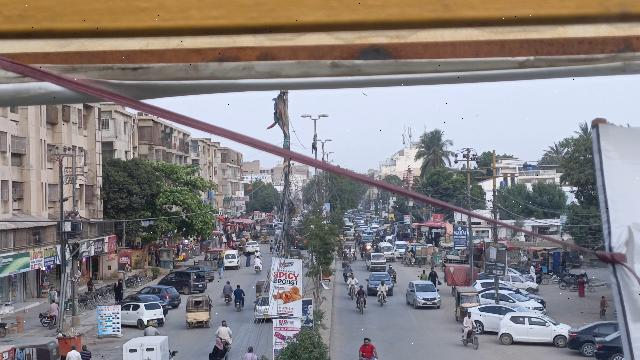Bike: (460, 327, 480, 352), (356, 294, 367, 315), (234, 297, 244, 314), (377, 291, 387, 307), (223, 292, 232, 306)
Car: (496, 310, 570, 346), (568, 320, 621, 357), (120, 299, 167, 330), (157, 268, 208, 295), (469, 304, 515, 333), (405, 279, 442, 310), (141, 285, 182, 308), (365, 270, 394, 296), (253, 296, 271, 324)
Person: (217, 321, 234, 339), (77, 341, 93, 360), (66, 343, 82, 360), (360, 336, 374, 355), (428, 265, 439, 286), (463, 310, 475, 328), (233, 284, 246, 299), (356, 285, 368, 300), (377, 278, 388, 294), (222, 279, 233, 293), (419, 268, 428, 282)
Rickshaw: (183, 294, 213, 330), (453, 283, 480, 322)
Truck: (120, 335, 178, 360)
